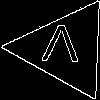V: (40, 24, 81, 72)
